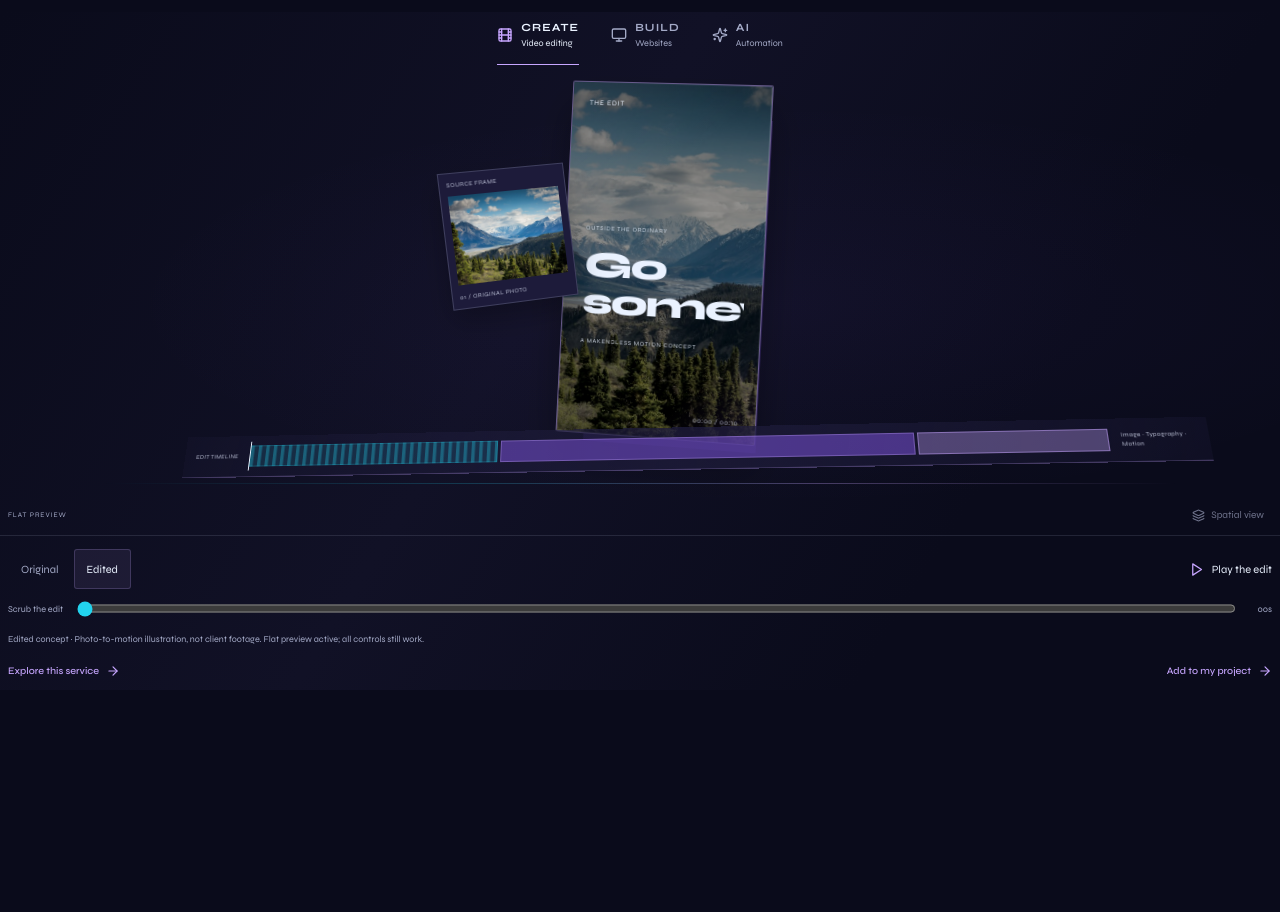
Living Showcase: service-led interactions and fallbacks › changes website structure, viewport and actual sample menu content
This screenshot has width=1280, height=912.
Click the button "BUILD Websites" at x=646, y=38, box [611,12,680,65]
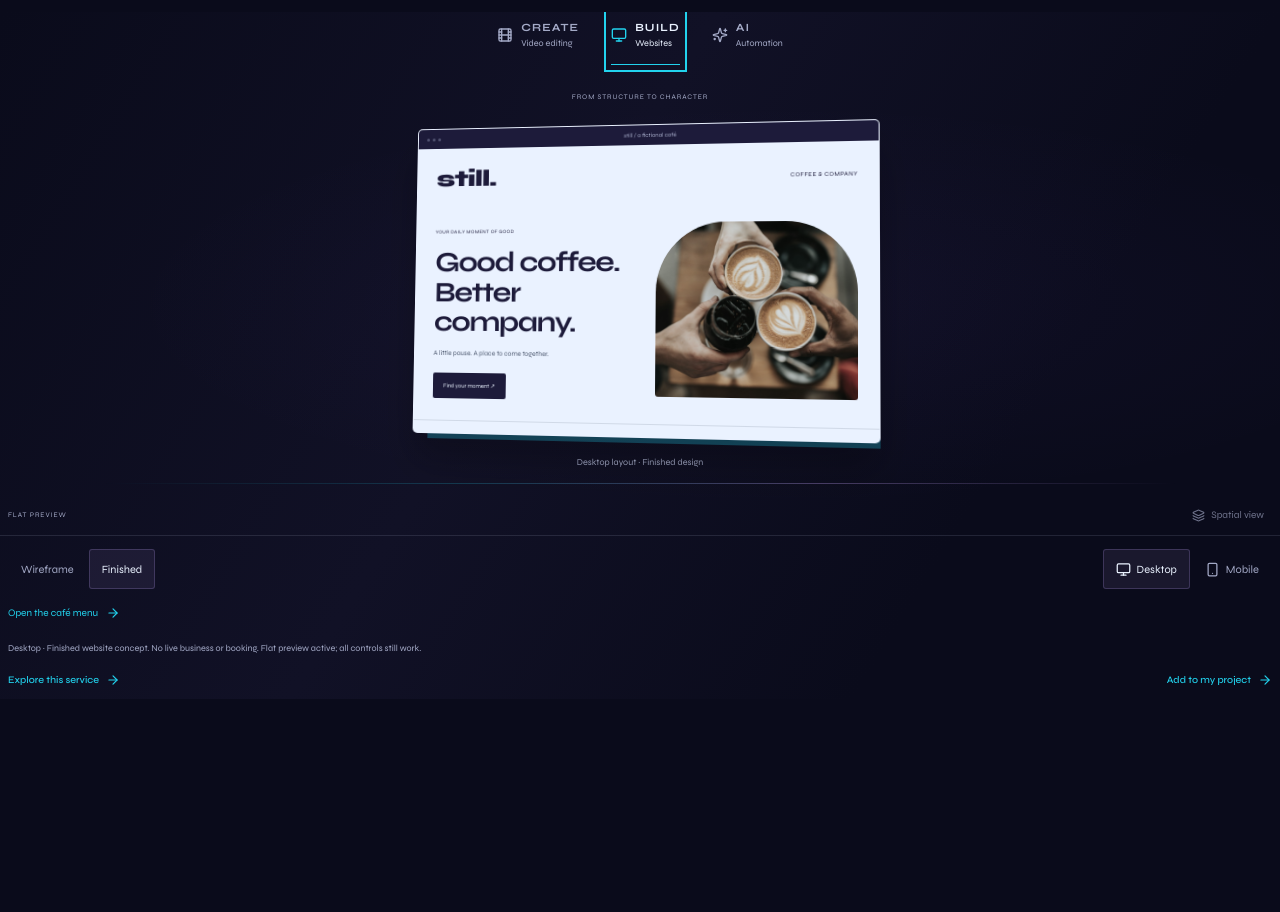
Click the button "Wireframe" at x=47, y=569, box [8,549,87,589]
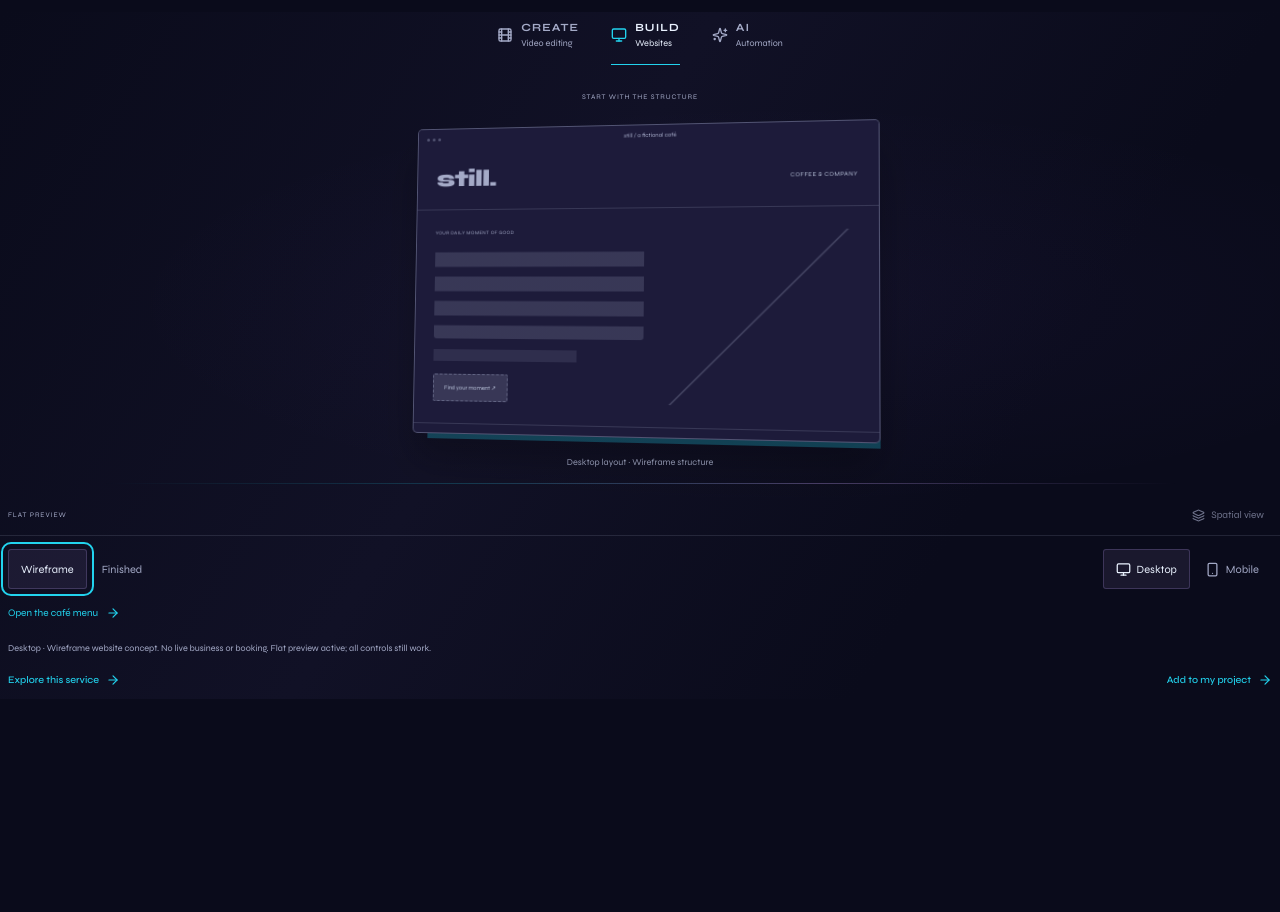
Now the text "START WITH THE STRUCTURE" is shown, box [582,93,698,101]
Click the button "Mobile" at x=1232, y=569, box [1192,549,1272,589]
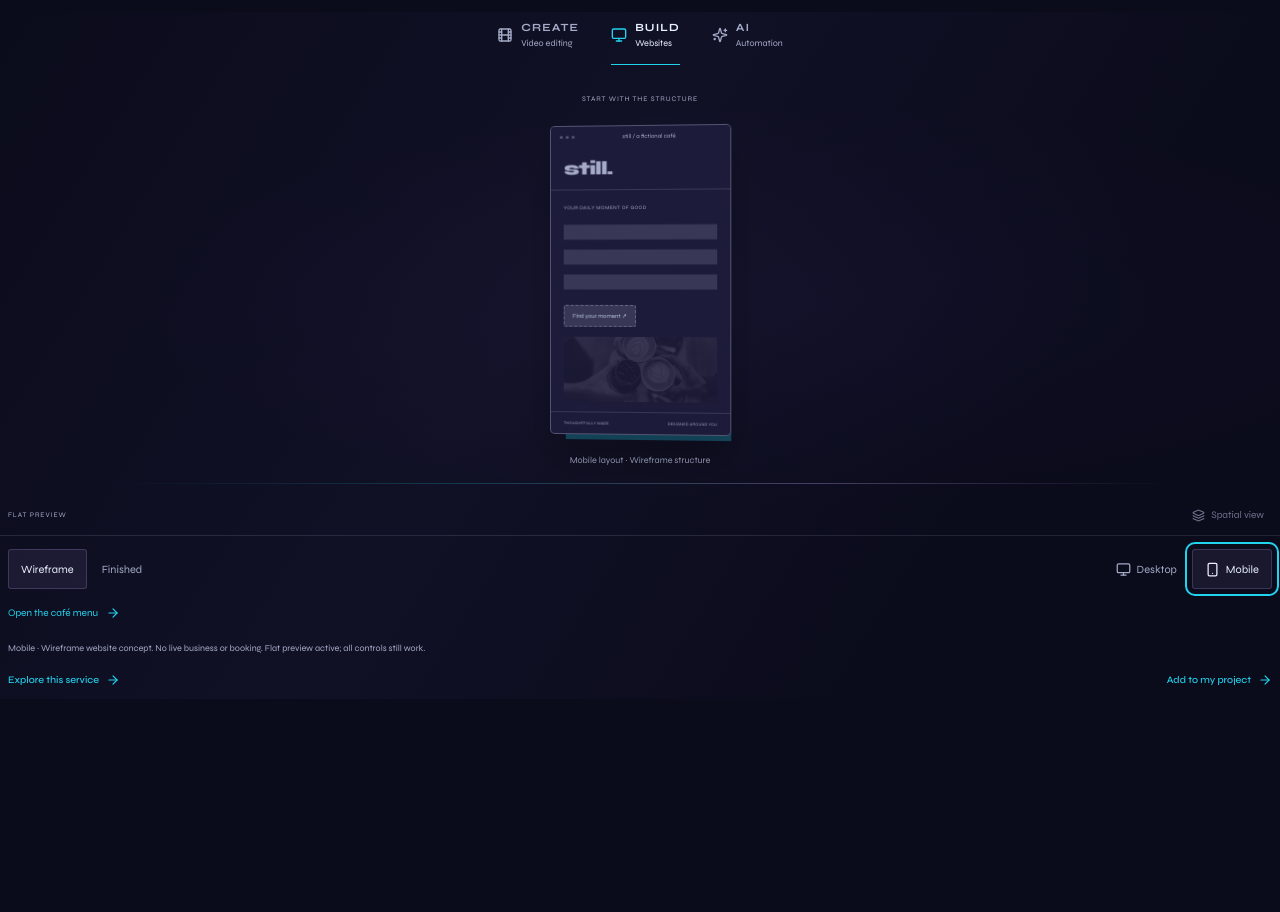
Now the text "Mobile layout · Wireframe structure" is shown, box [570,455,710,465]
Click the button "Open the café menu" at x=64, y=613, box [8,594,120,632]
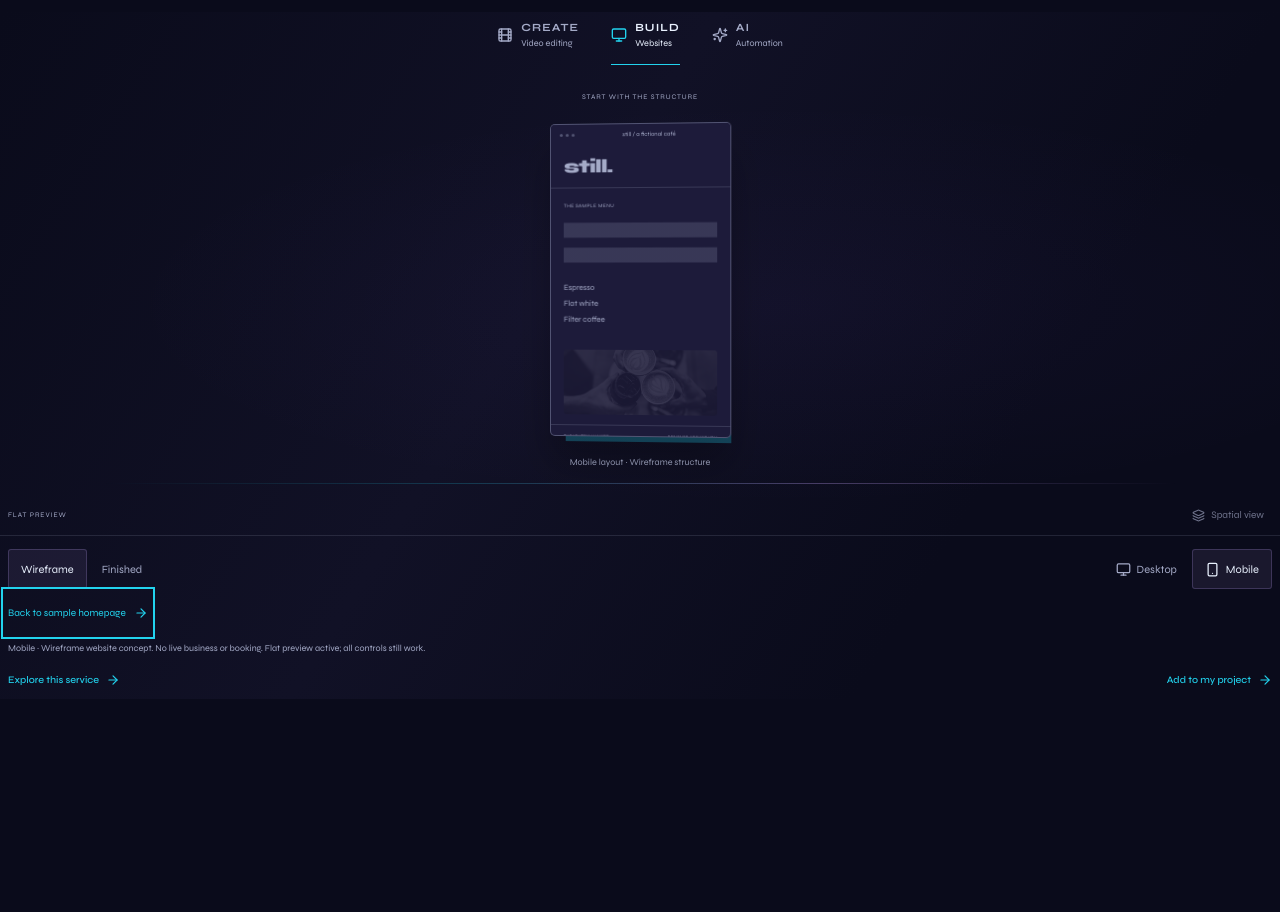
Now the list item "Flat white" is shown, box [564,299,598,308]
Now the text "THE SAMPLE MENU" is shown, box [564,202,614,208]
Click the button "Back to sample homepage" at x=78, y=613, box [8,594,148,632]
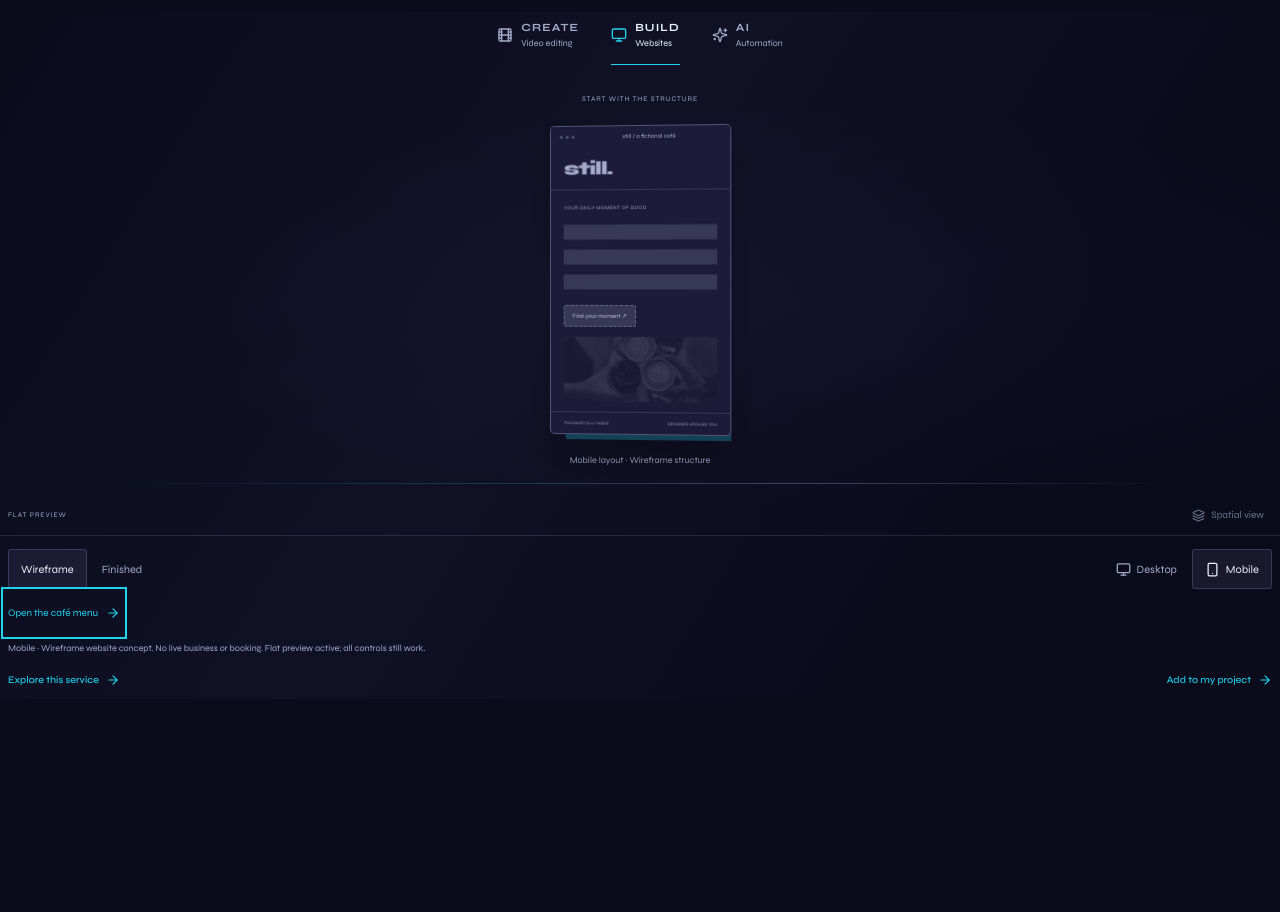
Now the list item "Flat white" is gone
